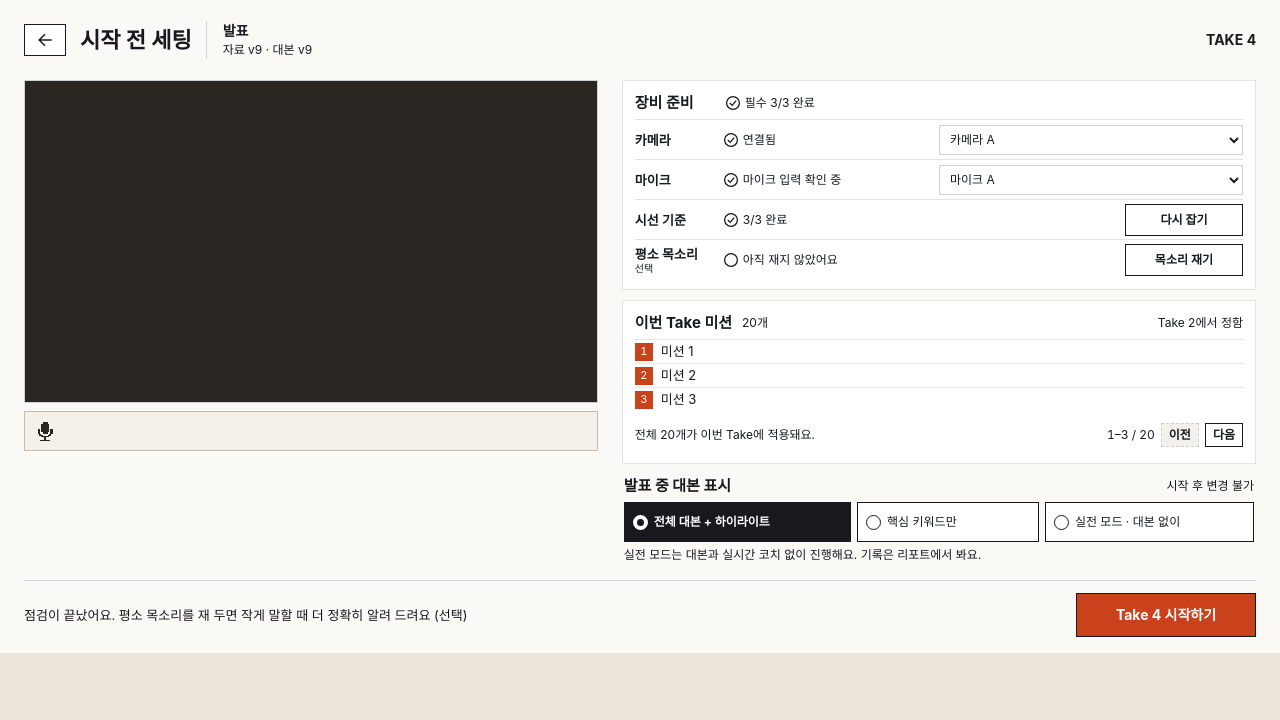
Test case: locks device and script choices while checking for an existing Take, and restores focus after cancellation
Click the button "Take 4 시작하기" at (1166, 615), box [1076,593,1256,637]
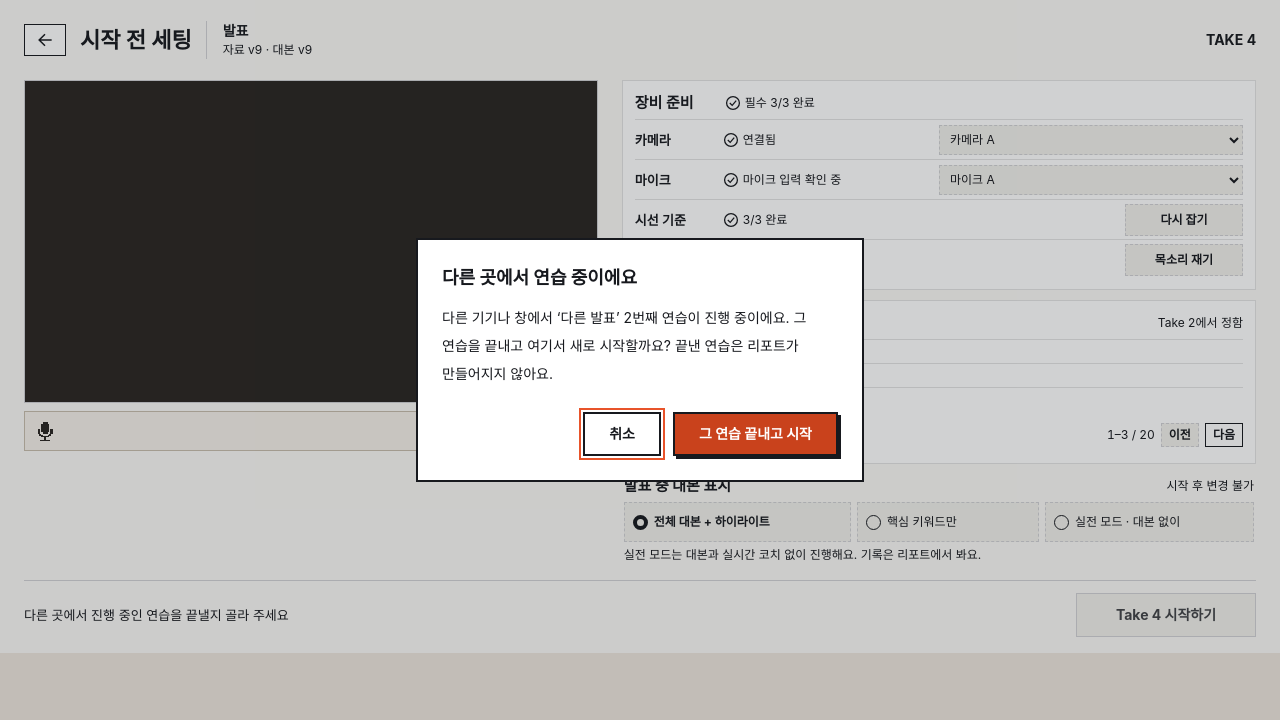
Result: the dialog is shown at [416,238,864,482]
Click the button "취소" at (622, 434), box [583,412,661,456]
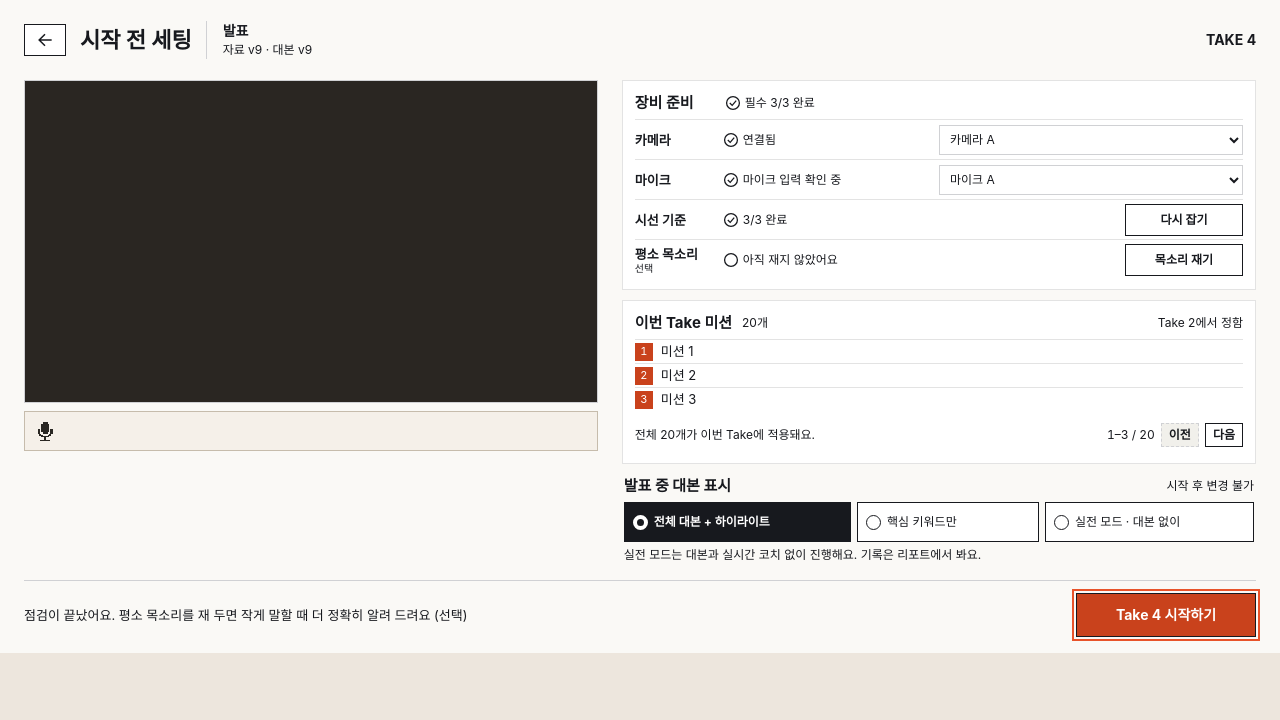
Result: the dialog is gone
Result: the button "Take 4 시작하기" is enabled at [1076,593,1256,637]
